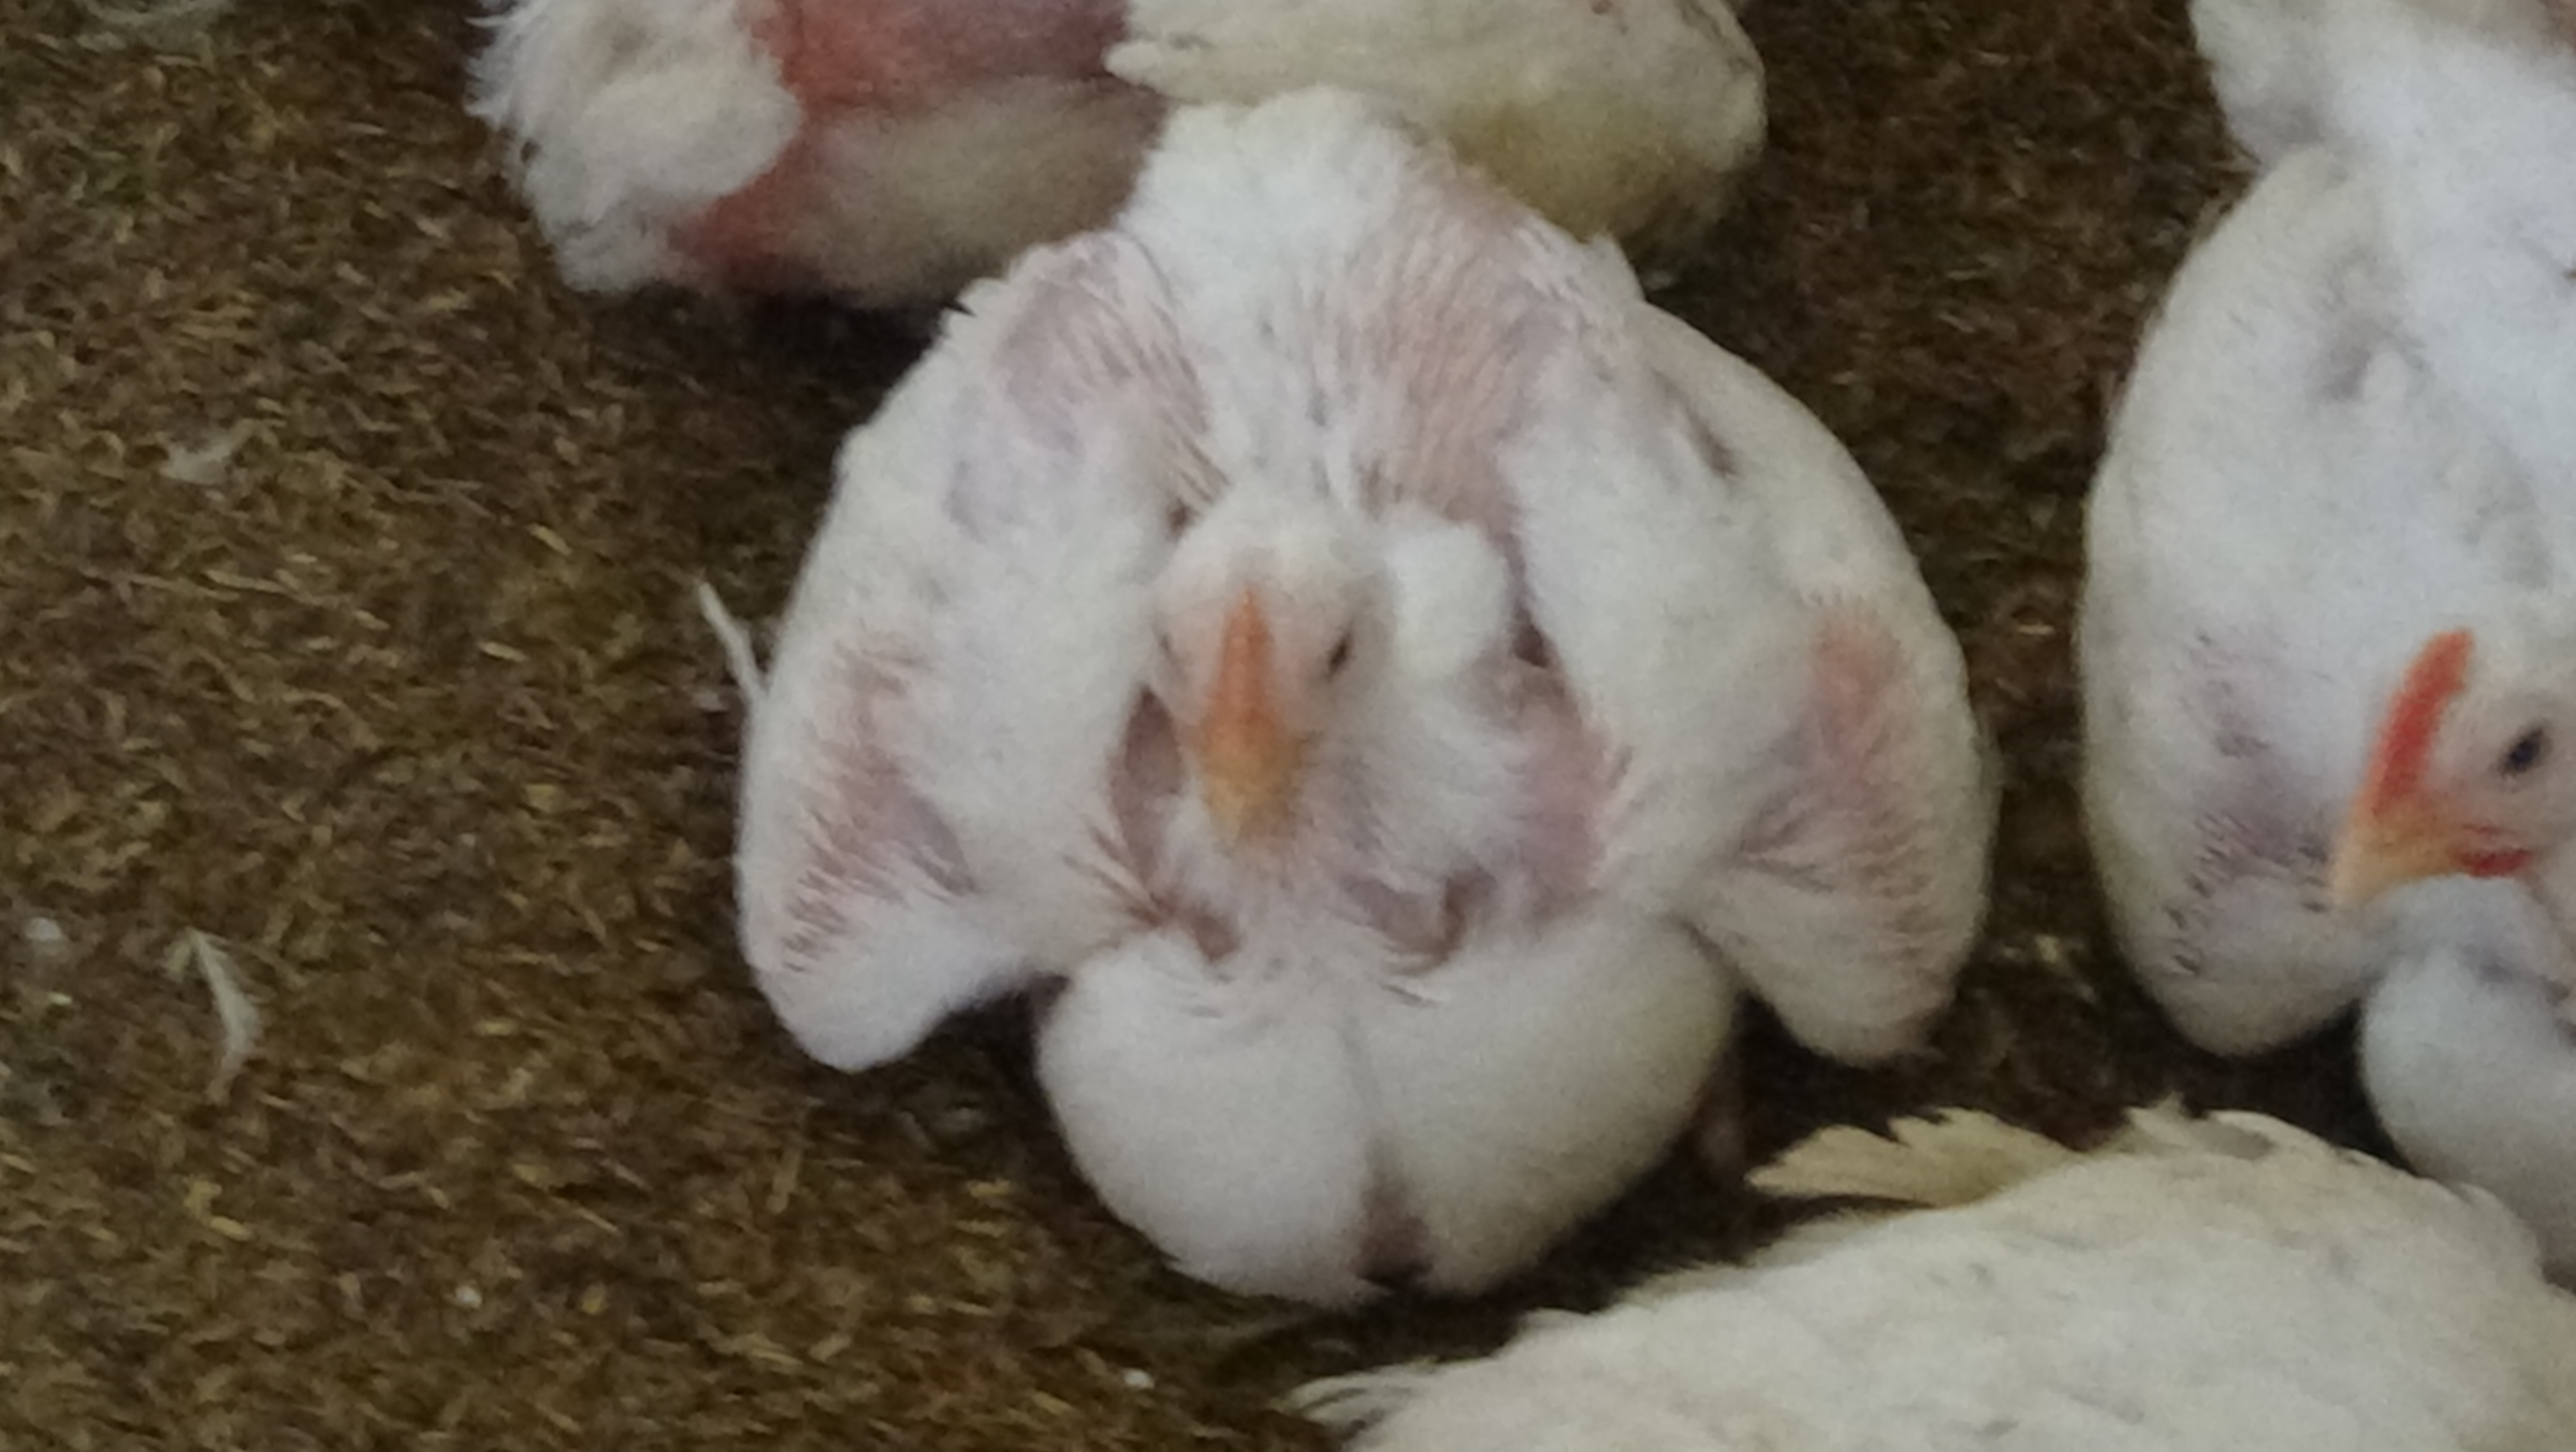Pollos: (729, 81, 2006, 1319), (2063, 0, 2576, 1190)
